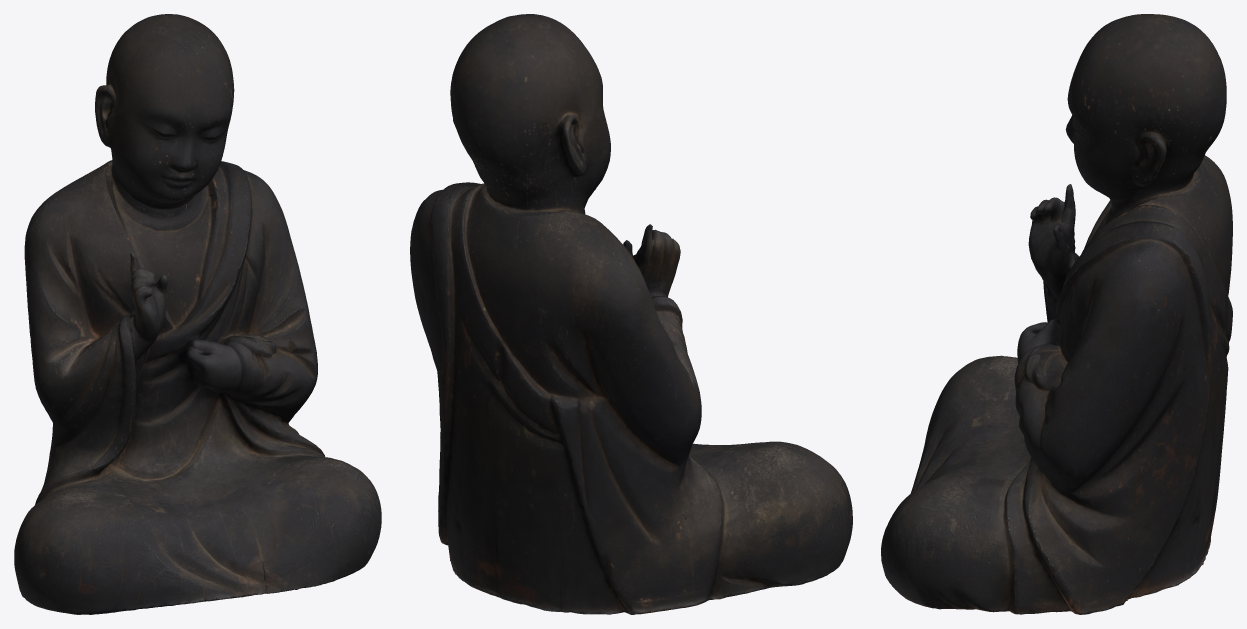
The model's file is patriarch.glb.
3 views of the same model, side by side, from view 1: azimuth 30°, elevation 25°; view 2: azimuth 150°, elevation 25°; view 3: azimuth 270°, elevation 25° (orthographic). The views are drawn at different scales.
Parts seen in each view (by area): view 1: patriarch; view 2: patriarch; view 3: patriarch.
Boxes of the visible parts, x1,y1,x2,y2 form: patriarch: (14,14,381,614); patriarch: (410,14,852,614); patriarch: (881,14,1232,614).
Size of the model in its own units: 0.2414 by 0.3459 by 0.2039.
1 material, 1 textured.
